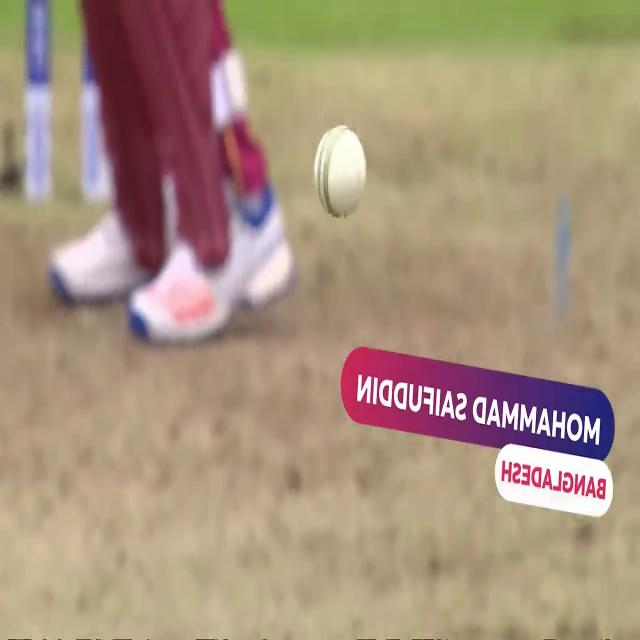ball: (313, 119, 371, 228)
